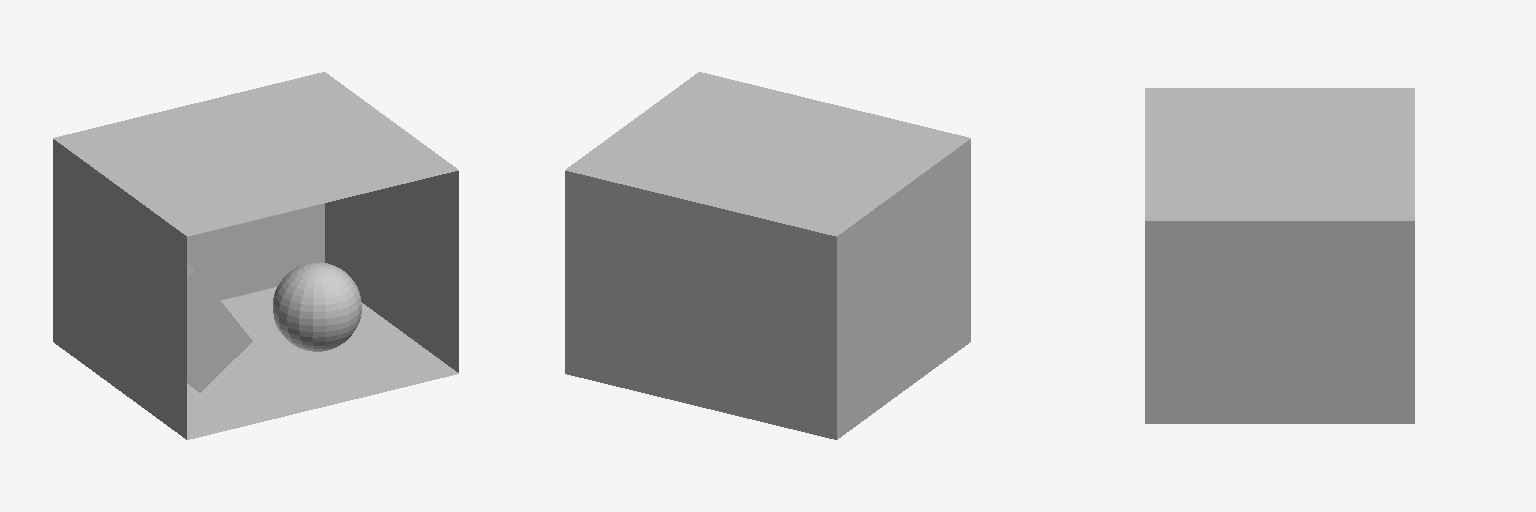
Rendered from cornell_box.obj.
The picture shows the model from 3 angles: view 1: azimuth 30°, elevation 25°; view 2: azimuth 150°, elevation 25°; view 3: azimuth 270°, elevation 25°; orthographic projection.
Bounding box in the file's own units: 0.8285 × 0.5918 × 0.7101.